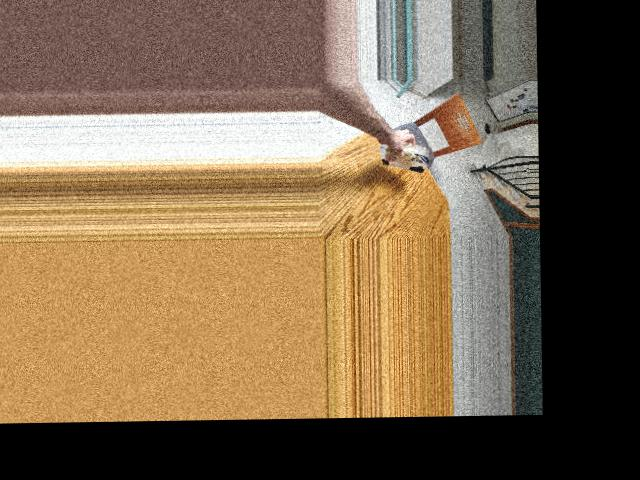cheese: (379, 140, 427, 173)
